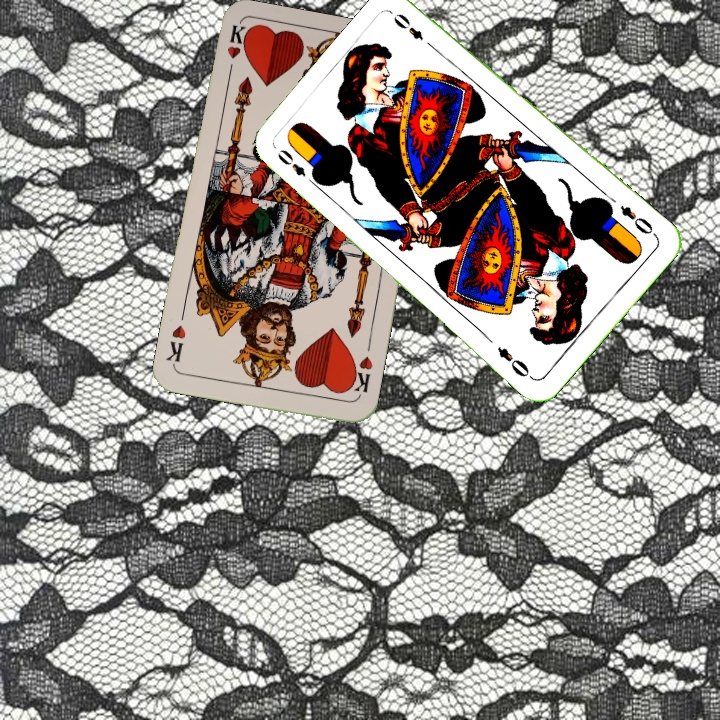EO: (273, 145, 321, 189), (616, 201, 660, 239)
HK: (223, 22, 249, 82), (344, 352, 375, 400)
